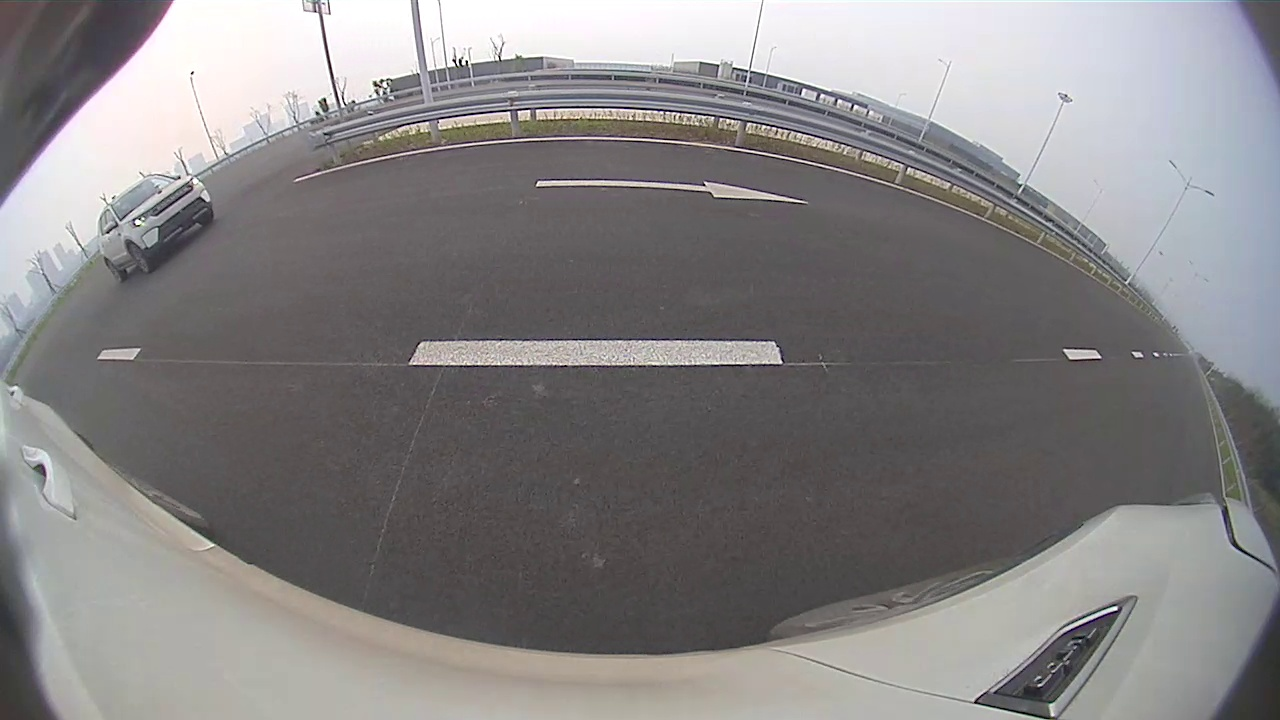car: (98, 174, 213, 282)
front: (126, 242, 153, 277)
